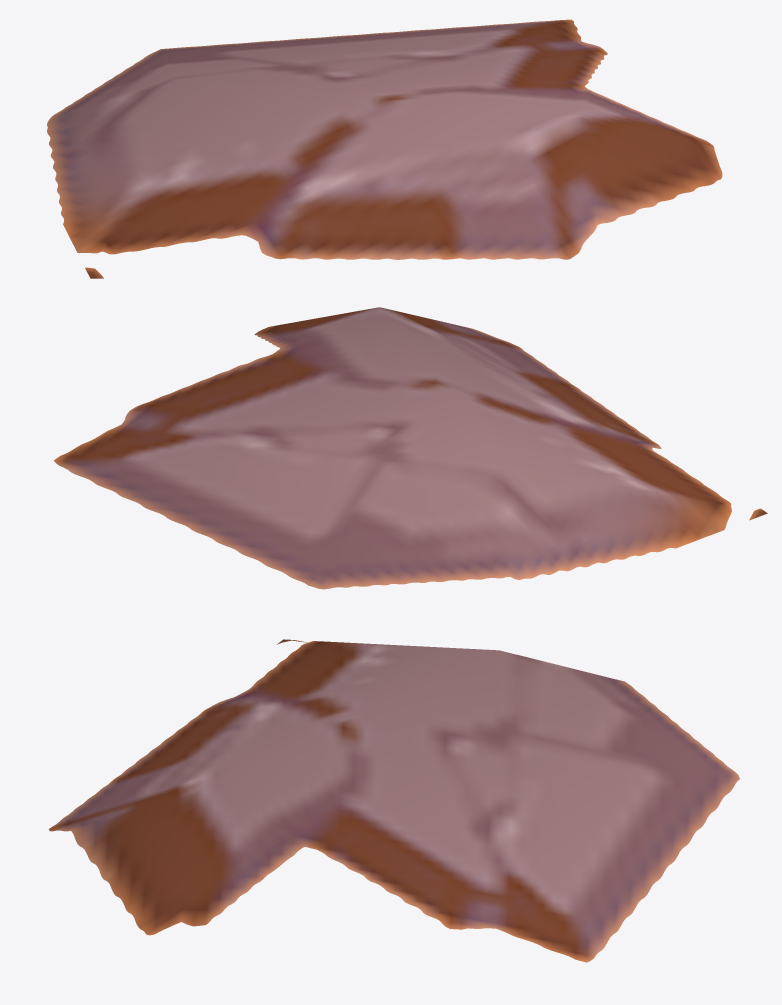
File: Chapter1Scene1Model12.FBX
3 views of the same model, one above another, from view 1: azimuth 30°, elevation 25°; view 2: azimuth 150°, elevation 25°; view 3: azimuth 270°, elevation 25° (orthographic). The views are drawn at different scales.
Visible parts, largest first — view 1: Chapter1Scene1Model12; view 2: Chapter1Scene1Model12; view 3: Chapter1Scene1Model12.
Boxes of the visible parts, left/top/right/bottom form: Chapter1Scene1Model12: left=47, top=19, right=722, bottom=278; Chapter1Scene1Model12: left=54, top=307, right=767, bottom=589; Chapter1Scene1Model12: left=48, top=639, right=739, bottom=962.
Bounding box in the file's own units: 38.02 × 34.49 × 4.42.
